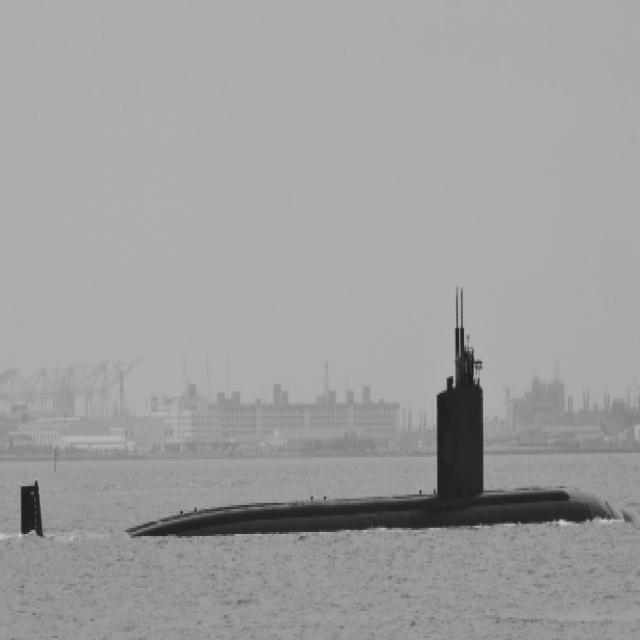submarine: (20, 263, 637, 543)
